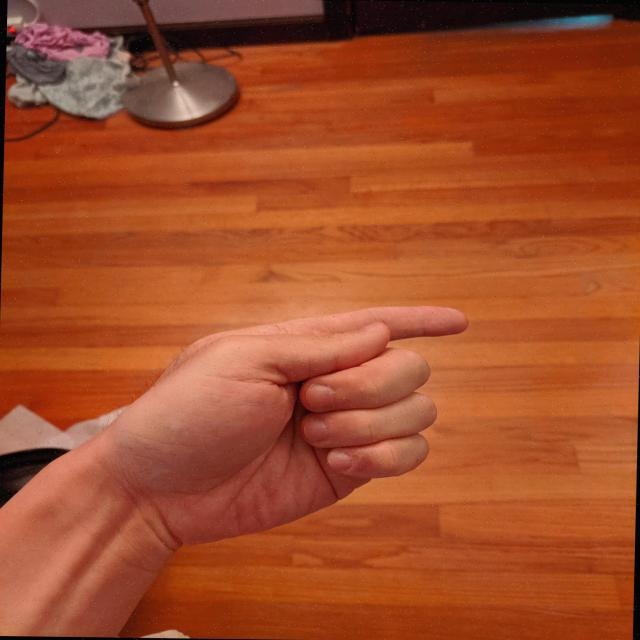G: (87, 297, 475, 554)
